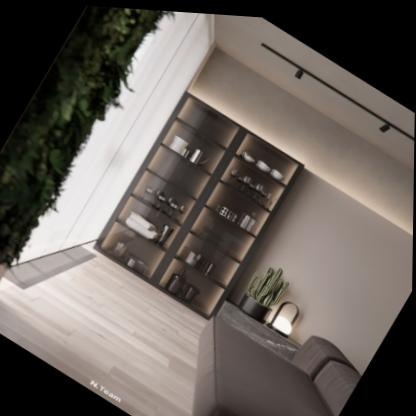Cupboard: (94, 91, 304, 316)
Wooden floor: (0, 242, 206, 416)
